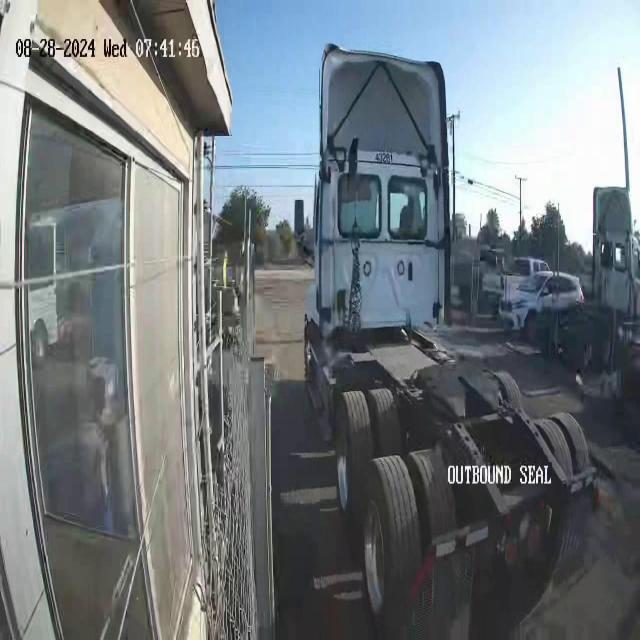TRUCK_OUT: (288, 48, 589, 610)
